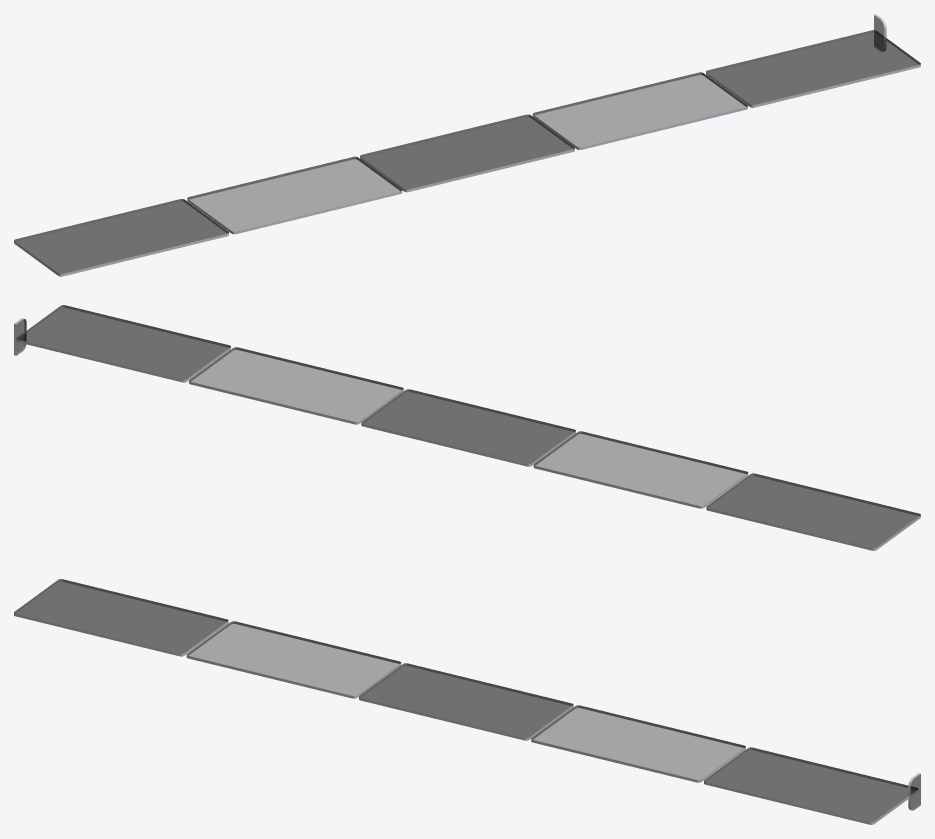
The model's file is ShelfDividerTransparent01.obj.
3 renders of one model, top to bottom at view 1: azimuth 30°, elevation 25°; view 2: azimuth 150°, elevation 25°; view 3: azimuth 330°, elevation 25°, orthographic.
Visible parts, largest first — view 1: ShelfDividerTransparent01; view 2: ShelfDividerTransparent01; view 3: ShelfDividerTransparent01.
Boxes of the visible parts, <box> form: ShelfDividerTransparent01: <box>14,14,920,276</box>; ShelfDividerTransparent01: <box>14,305,920,550</box>; ShelfDividerTransparent01: <box>14,579,920,824</box>.
Bounding box in the file's own units: 0.5274 × 0.0186 × 0.05.
Materials: 2 (1 with a texture image).
